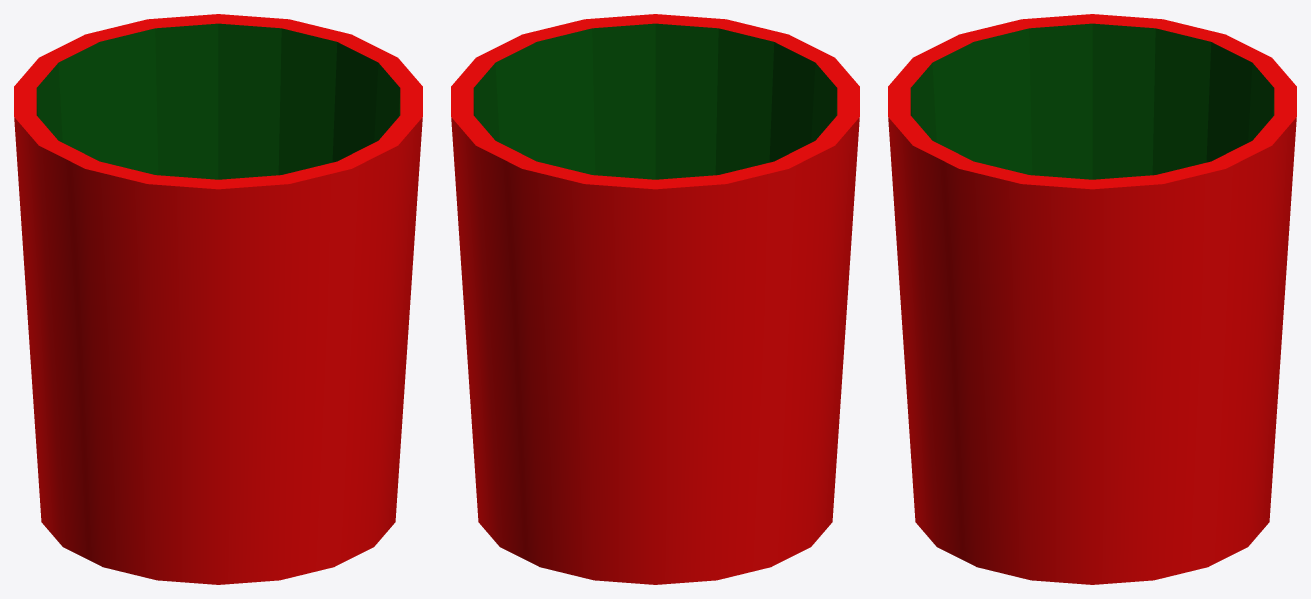
Rendered from Cup.FBX.
3 renders of one model, left to right at view 1: azimuth 30°, elevation 25°; view 2: azimuth 150°, elevation 25°; view 3: azimuth 270°, elevation 25°, orthographic.
Parts seen in each view (by area): view 1: Zylinder001; view 2: Zylinder001; view 3: Zylinder001.
Part boxes in pixels (bbox=[...]): Zylinder001: bbox=[14, 14, 422, 584]; Zylinder001: bbox=[451, 14, 859, 584]; Zylinder001: bbox=[888, 14, 1296, 584].
Size of the model in its own units: 4.58 by 4.96 by 4.51.
